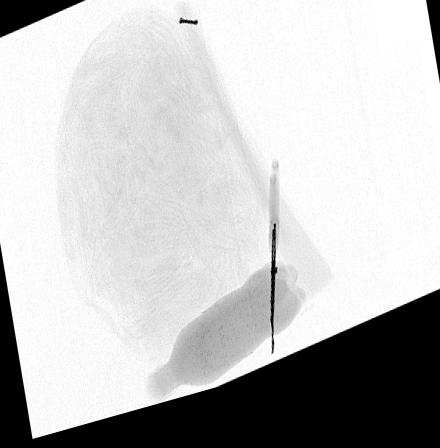Scissors: (268, 170, 282, 370)
